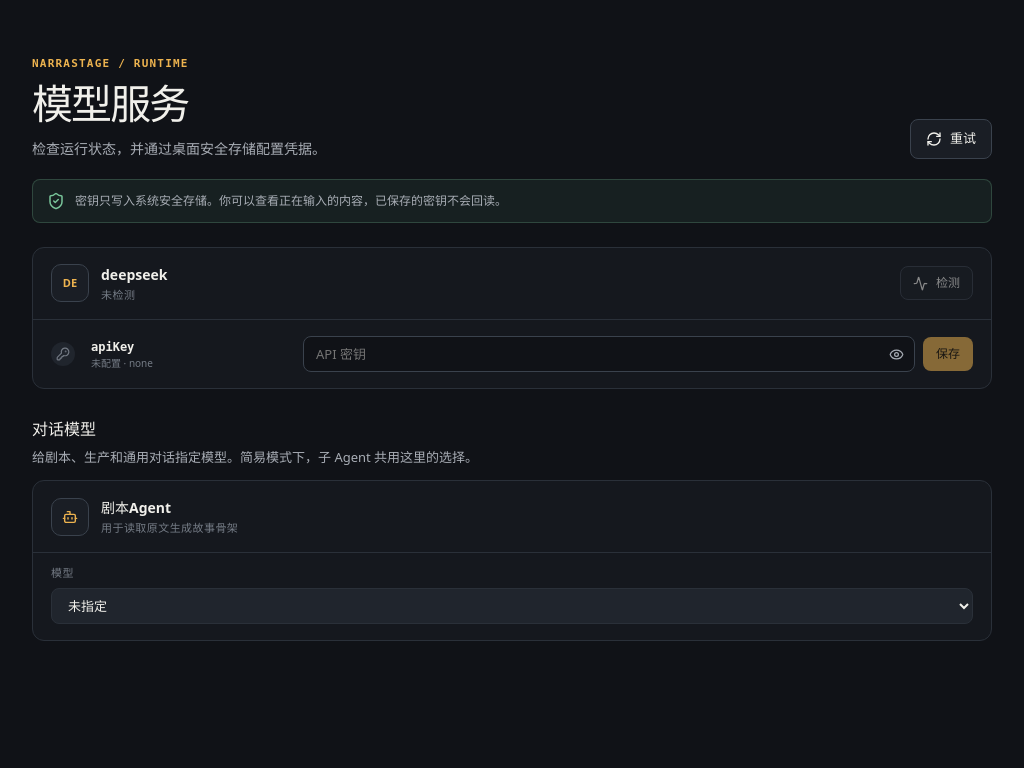
providers credentials surface › saves through the desktop bridge, reveals the typed secret, and pings the platform
Step 1. Type "sk-live-canary" into the password field labelled "API 密钥" → (609, 354), box [303,336,915,372]
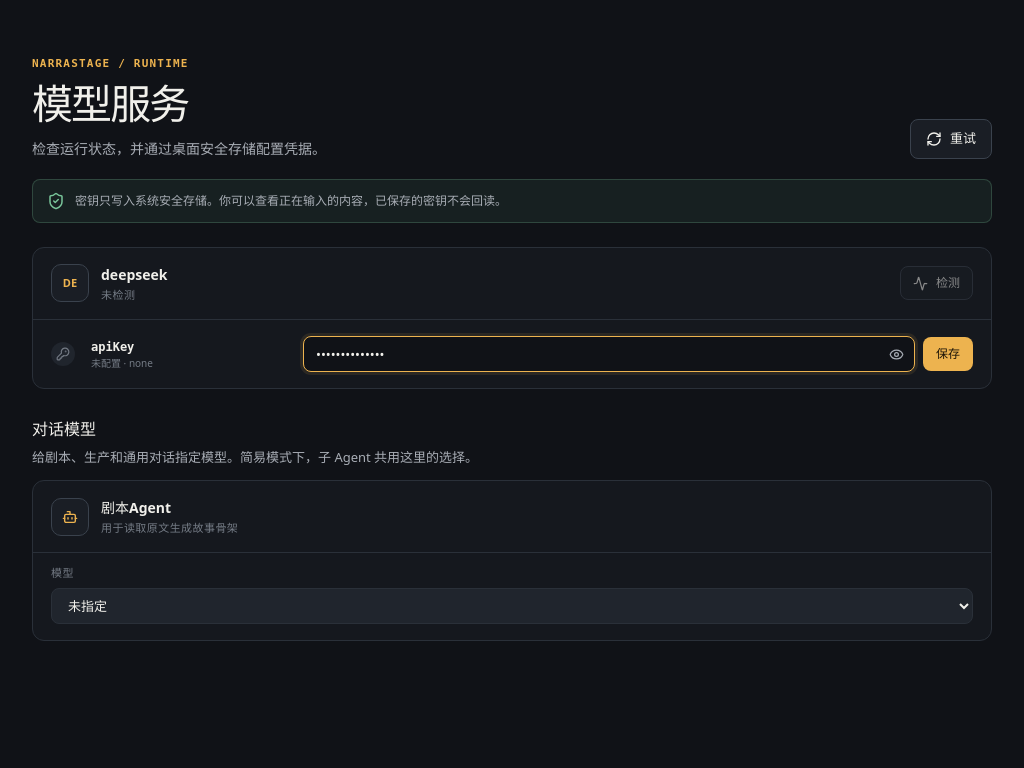
Step 2. Click the button named "显示密钥" → (897, 354), box [883,340,911,368]
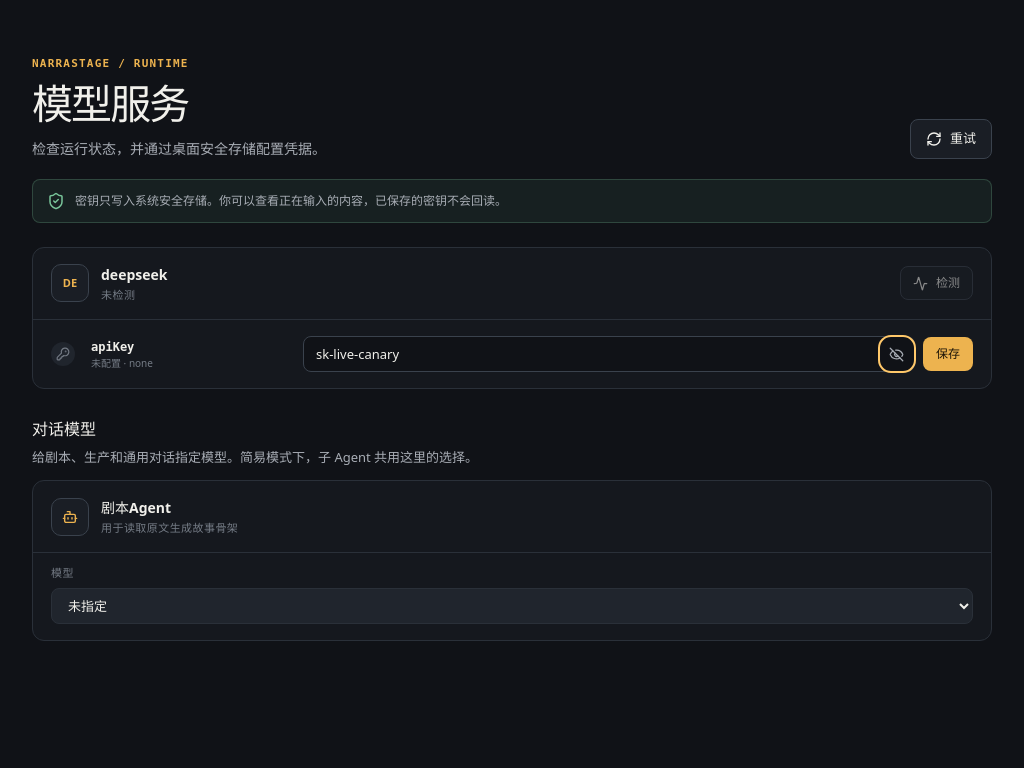
Result: the field named "API 密钥" shows its text at [303,336,915,372]
Step 3. Click the button named "隐藏密钥" → (897, 354), box [883,340,911,368]
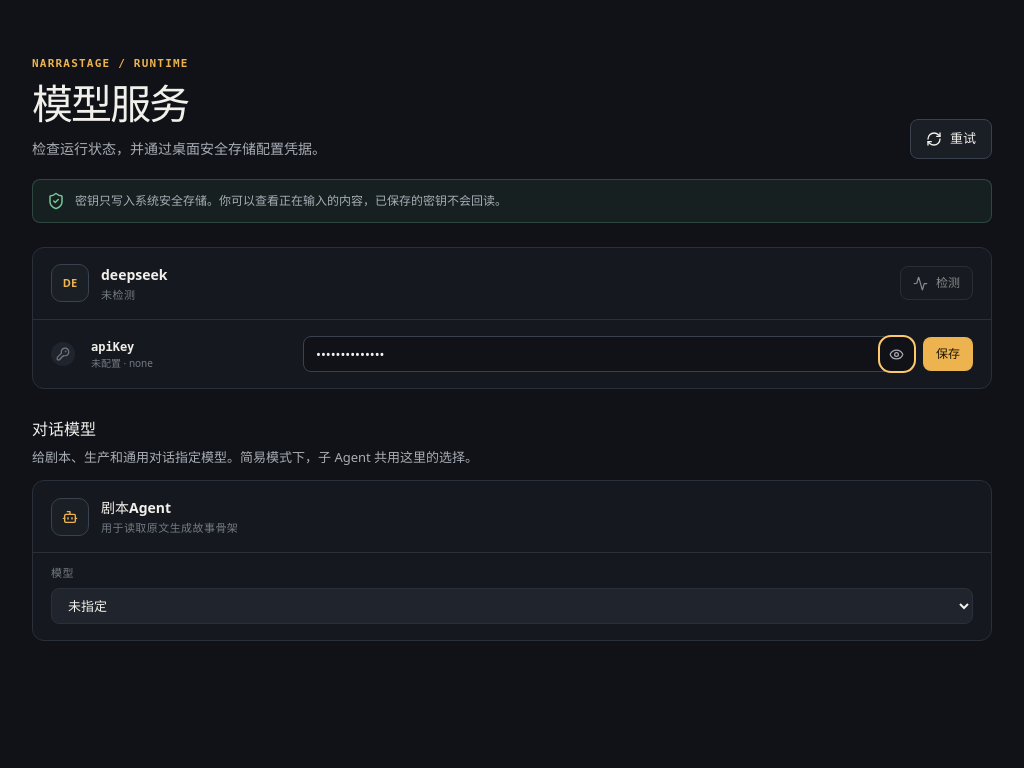
Result: the password field named "API 密钥" hides its text at [303,336,915,372]
Step 4. Click the button "保存" → (948, 354), box [923,337,973,371]
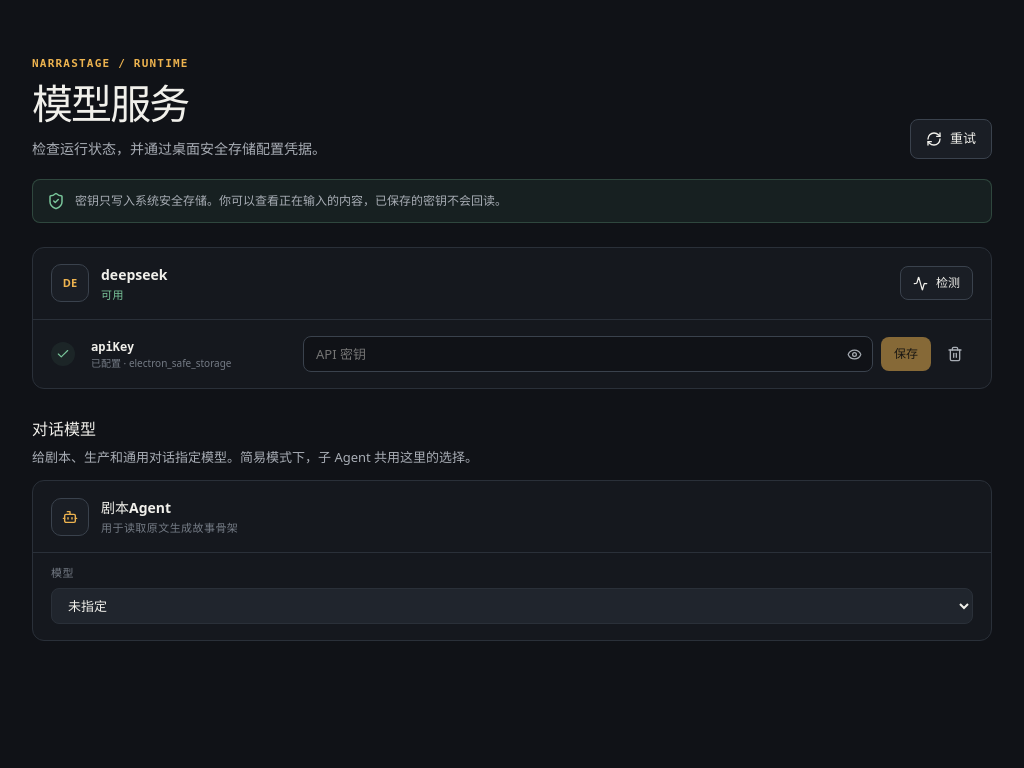
Result: the password field labelled "API 密钥" is empty at [303,336,873,372]
Result: the text "可用" is shown at [101,286,124,302]
